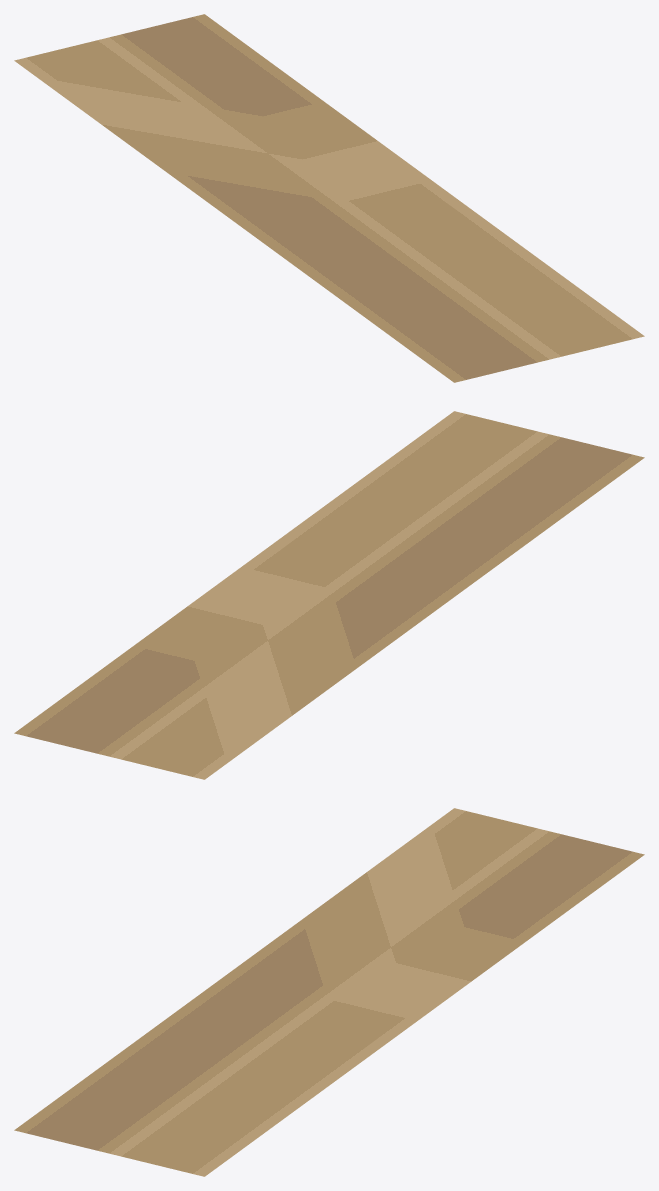
3 renders of one model, top to bottom at view 1: azimuth 30°, elevation 25°; view 2: azimuth 150°, elevation 25°; view 3: azimuth 330°, elevation 25°, orthographic.
Size of the model in its own units: 0.25 by 0 by 1.
1 material, 1 textured.
